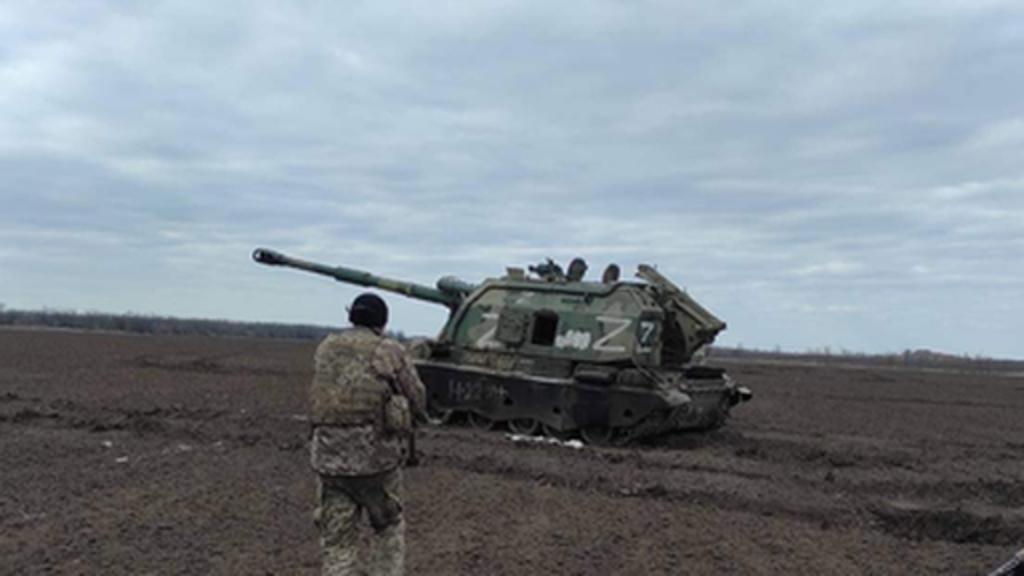ART: (244, 234, 750, 446)
